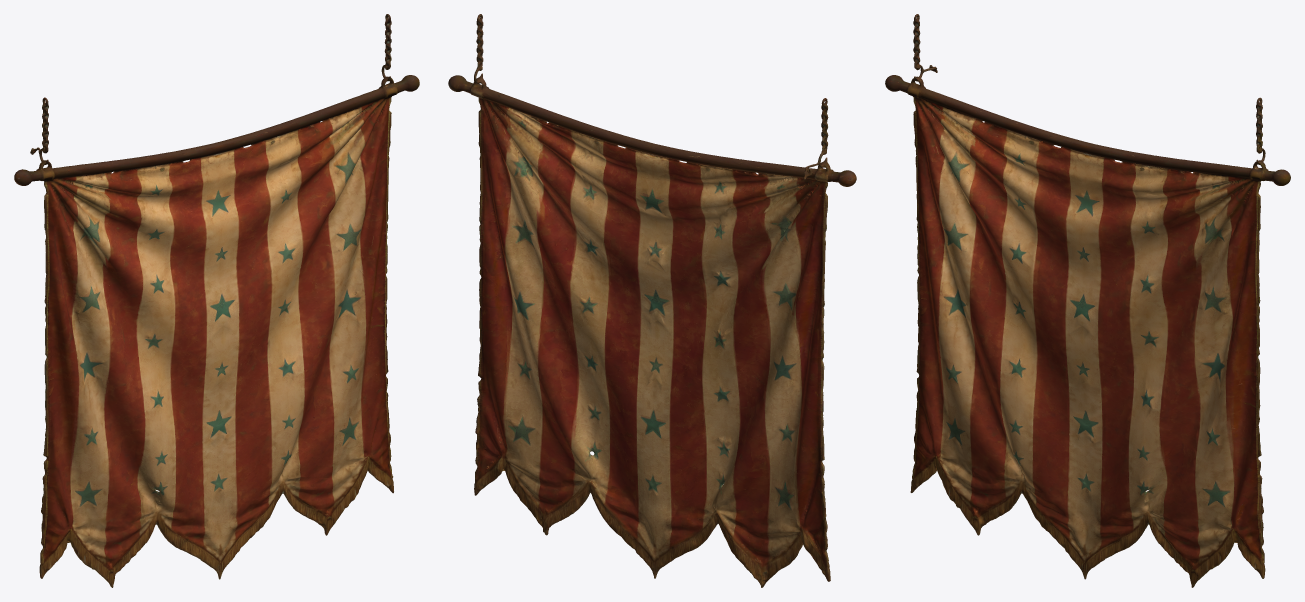
The model's file is Meshy_AI_Vintage_Stars_and_Str_0624191505_texture.fbx.
3 renders of one model, left to right at view 1: azimuth 30°, elevation 25°; view 2: azimuth 150°, elevation 25°; view 3: azimuth 330°, elevation 25°, orthographic.
Visible parts, largest first — view 1: Mesh_0; view 2: Mesh_0; view 3: Mesh_0.
Part boxes in pixels (bbox=[...]): Mesh_0: bbox=[14, 14, 419, 587]; Mesh_0: bbox=[448, 14, 856, 587]; Mesh_0: bbox=[885, 14, 1290, 587].
Size of the model in its own units: 155 by 191 by 17.29.
Materials: 1 (1 with a texture image).
